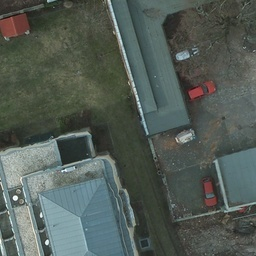car: (199, 176, 220, 208), (187, 80, 219, 99), (173, 45, 201, 63)
